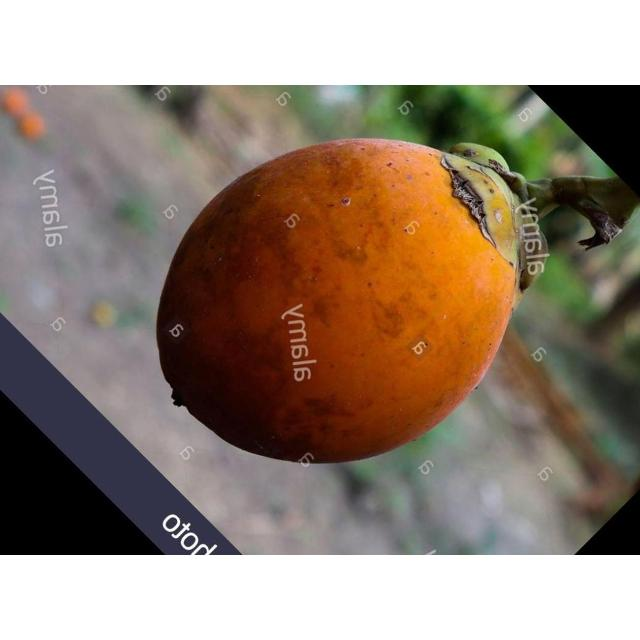good: (155, 139, 545, 467)
